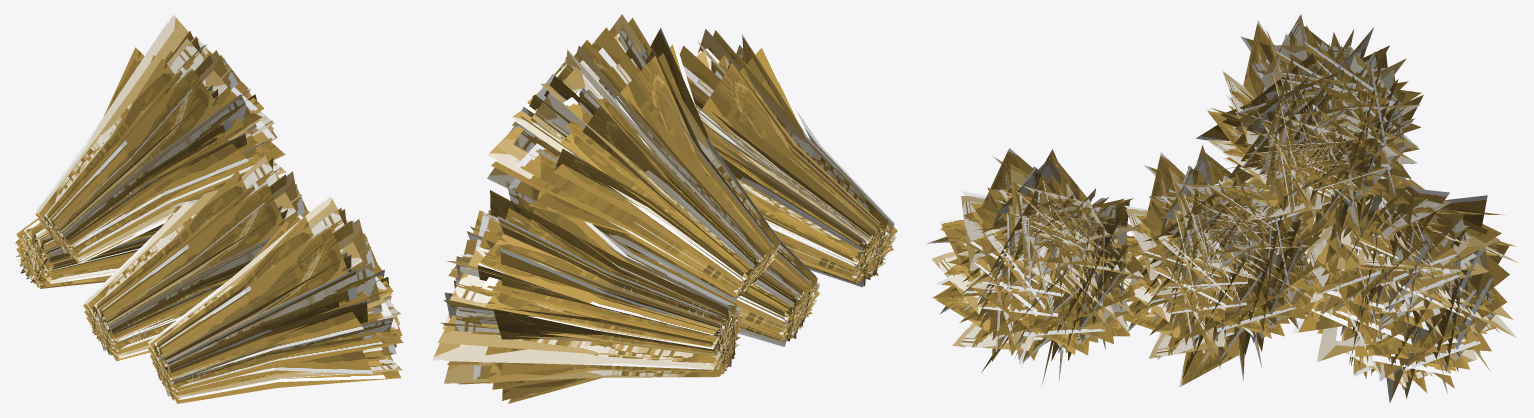
File: MS_WindmillWheat4.fbx
The picture shows the model from 3 angles, left to right: view 1: azimuth 30°, elevation 25°; view 2: azimuth 150°, elevation 25°; view 3: azimuth 270°, elevation 25°; orthographic projection. The views are drawn at different scales.
Visible parts, largest first — view 1: Plane.003; view 2: Plane.003; view 3: Plane.003.
Boxes of the visible parts, x1,y1,x2,y2 form: Plane.003: [15, 14, 403, 403]; Plane.003: [432, 14, 897, 403]; Plane.003: [927, 14, 1518, 403].
Size of the model in its own units: 816 by 953 by 1499.
